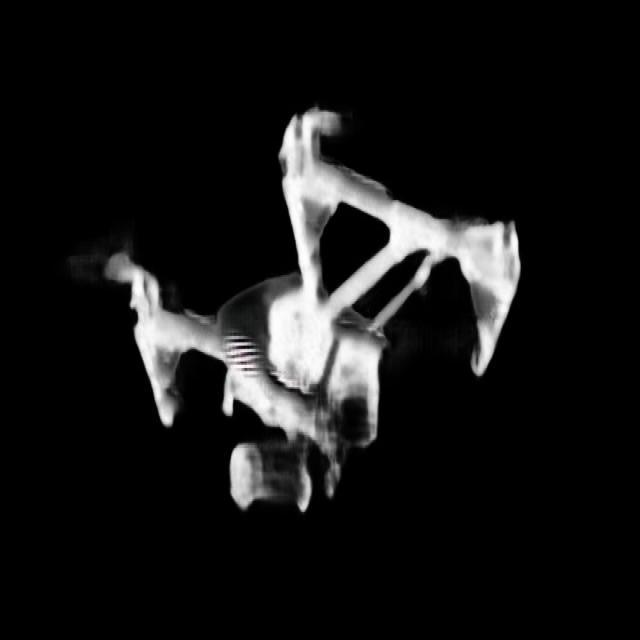drone: (48, 102, 524, 436)
